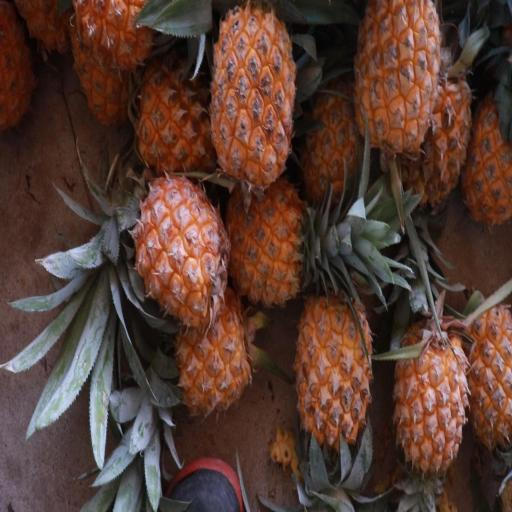Pineapple - v8 v1: (209, 2, 296, 197), (132, 172, 232, 335), (294, 281, 374, 483), (392, 313, 470, 505), (352, 0, 442, 166), (223, 171, 316, 312), (137, 42, 222, 185), (171, 281, 256, 423), (466, 296, 512, 458)
